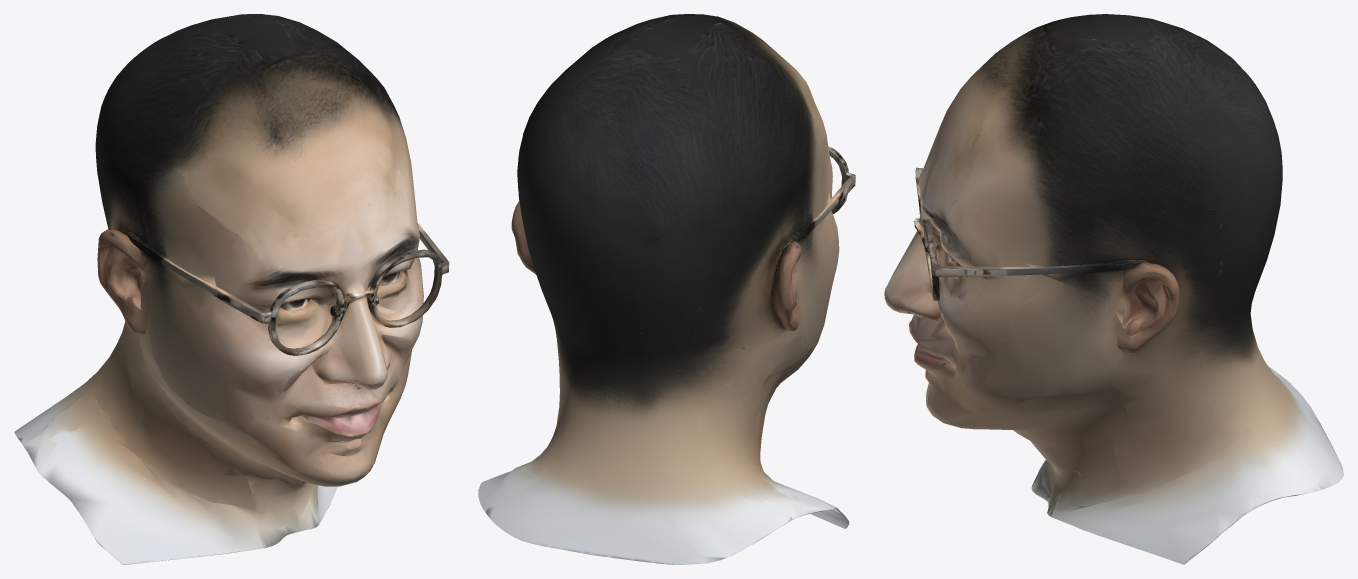
The model's file is tianshi_game.glb.
The picture shows the model from 3 angles, left to right: view 1: azimuth 30°, elevation 25°; view 2: azimuth 150°, elevation 25°; view 3: azimuth 270°, elevation 25°; orthographic projection.
Parts seen in each view (by area): view 1: node_0; view 2: node_0; view 3: node_0.
Boxes of the visible parts, x1,y1,x2,y2 form: node_0: (14, 14, 449, 564); node_0: (478, 14, 855, 564); node_0: (884, 14, 1343, 564).
Bounding box in the file's own units: 0.6809 × 0.9809 × 0.8576.
1 material, 1 textured.
